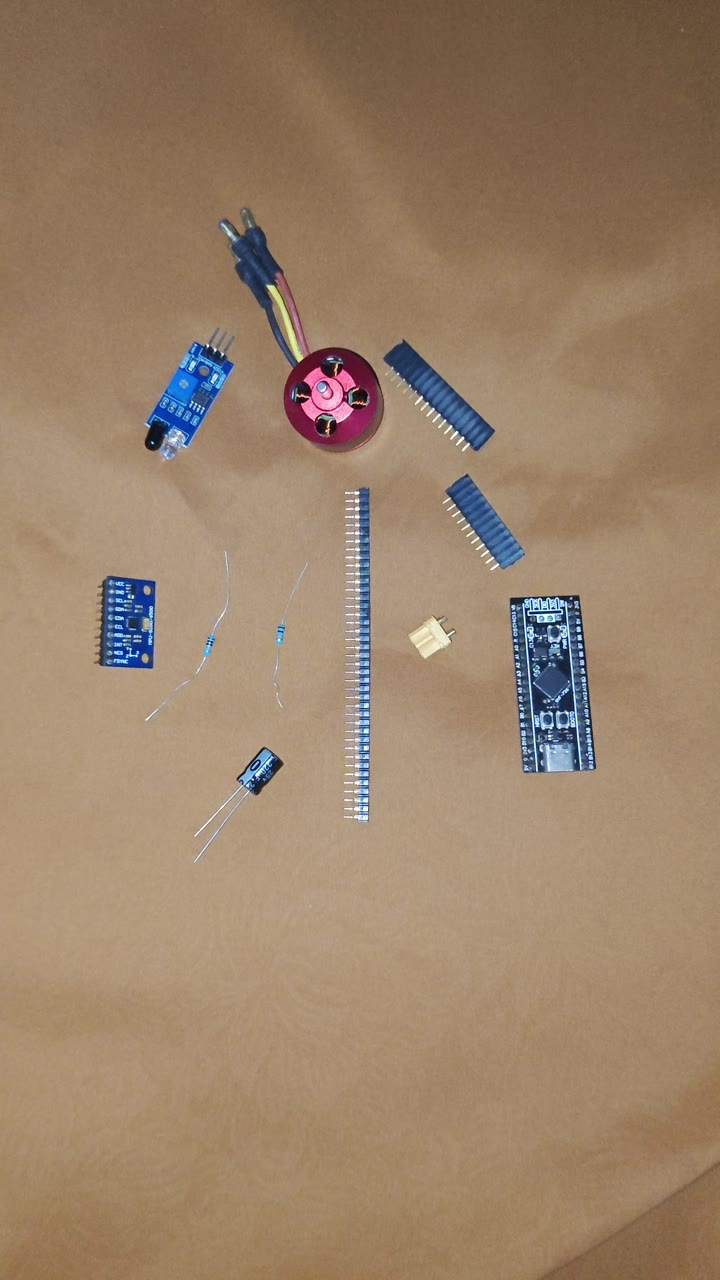bldc_motor: (213, 277, 389, 442)
elco_capacitor: (235, 745, 285, 796)
ir_sensor: (140, 337, 236, 454)
mpu6500: (95, 571, 158, 671)
pin_header: (378, 335, 499, 440), (440, 435, 527, 572), (343, 470, 368, 823)
resistor: (155, 523, 250, 724), (252, 534, 323, 722)
stm32f4: (507, 587, 594, 780)
xt30_female: (406, 613, 457, 660)
